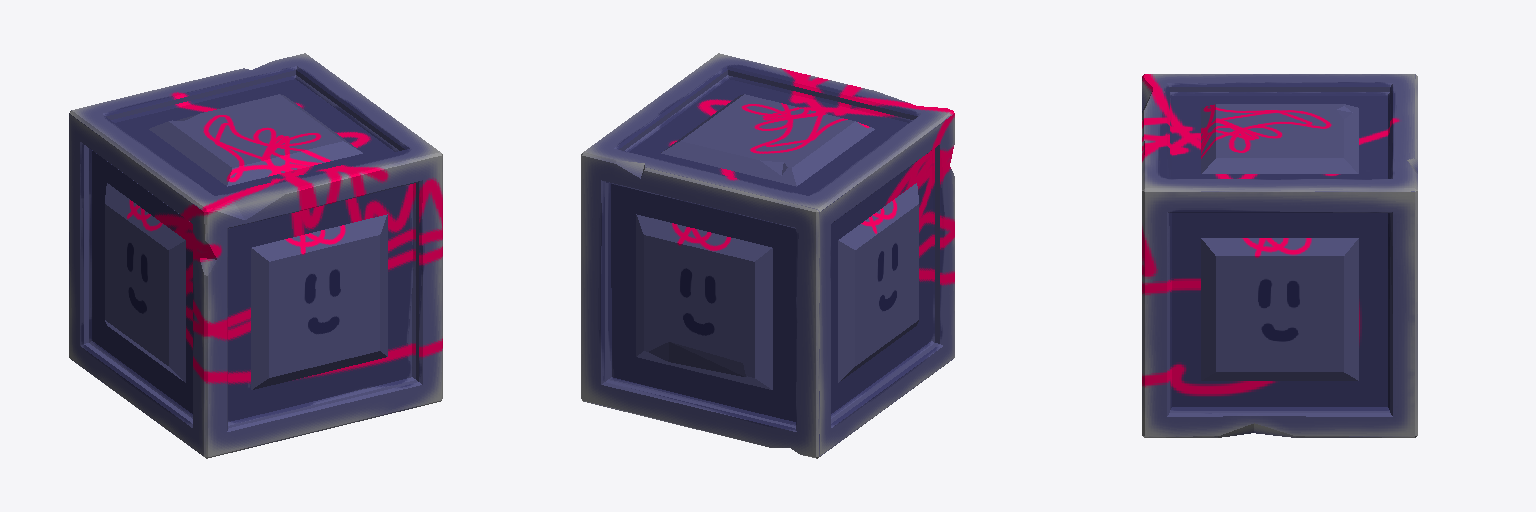
The picture shows the model from 3 angles: view 1: azimuth 30°, elevation 25°; view 2: azimuth 150°, elevation 25°; view 3: azimuth 270°, elevation 25°; orthographic projection.
Visible parts, largest first — view 1: pCube1; view 2: pCube1; view 3: pCube1.
Part boxes in pixels (left/top/right/bottom): pCube1: left=69, top=53, right=442, bottom=458; pCube1: left=581, top=53, right=954, bottom=458; pCube1: left=1142, top=74, right=1417, bottom=437.
Size of the model in its own units: 3 by 3 by 3.
Materials: 1 (1 with a texture image).